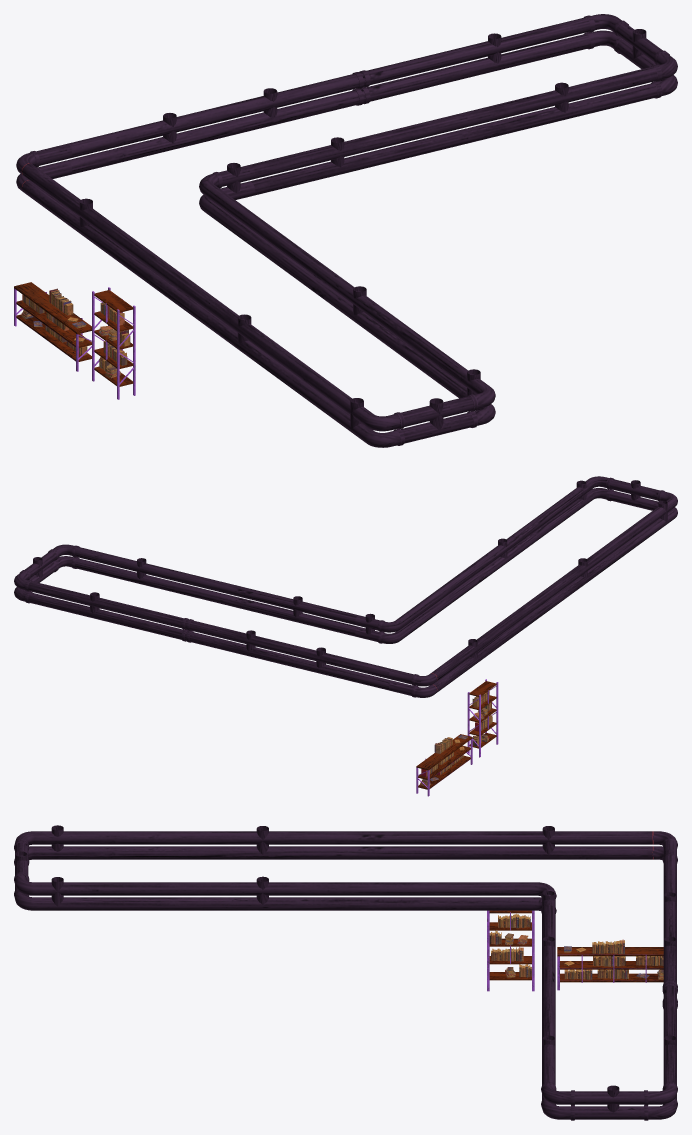
The model's file is Pruple_assets.fbx.
3 views of the same model, one above another, from view 1: azimuth 30°, elevation 25°; view 2: azimuth 150°, elevation 25°; view 3: azimuth 270°, elevation 25° (orthographic). The views are drawn at different scales.
Visible parts, largest first — view 1: Purple_Pie, wood, Wood, books, Books; view 2: Purple_Pie, wood, Wood, books, Books; view 3: Purple_Pie, wood, books, Wood, Books.
Boxes of the visible parts, <box> form: Purple_Pie: <box>16,14,677,447</box>; wood: <box>14,282,91,371</box>; Wood: <box>92,287,135,399</box>; books: <box>21,288,87,355</box>; Books: <box>99,302,130,378</box>; Purple_Pie: <box>14,476,677,697</box>; wood: <box>416,734,472,796</box>; Wood: <box>467,679,498,757</box>; books: <box>420,735,467,786</box>; Books: <box>472,691,492,746</box>; Purple_Pie: <box>14,825,677,1120</box>; wood: <box>557,947,663,990</box>; books: <box>564,939,663,979</box>; Wood: <box>487,910,534,991</box>; Books: <box>489,913,531,977</box>.
Bounding box in the file's own units: 38.28 × 10.47 × 40.37.
